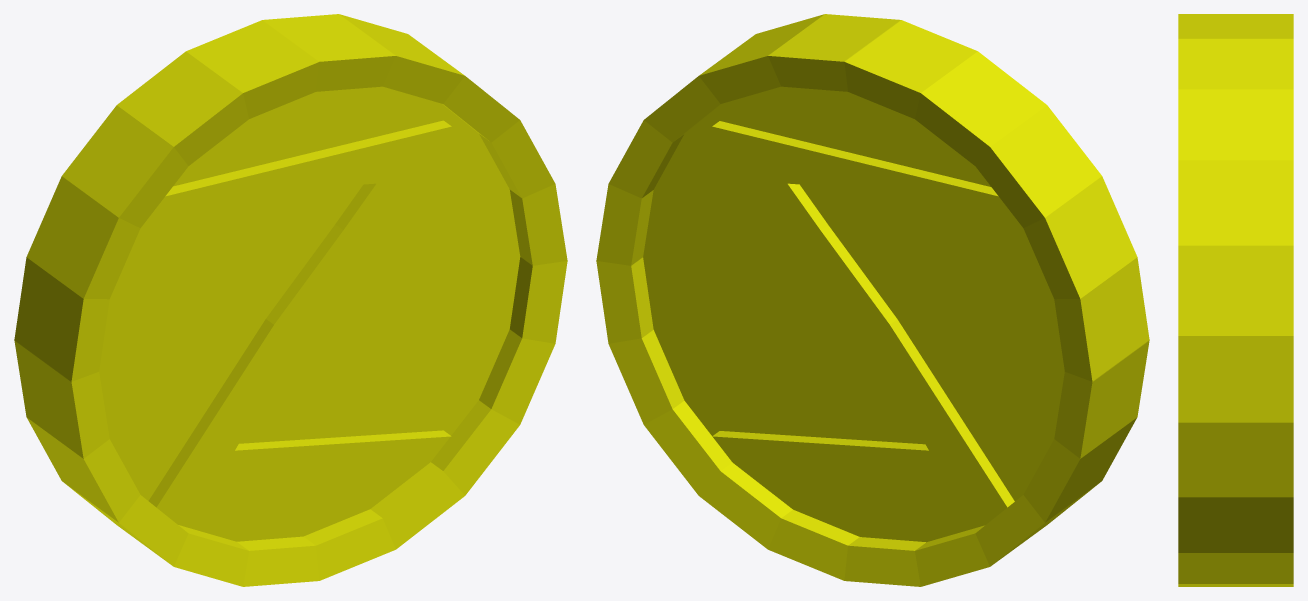
Rendered from Coin.fbx.
3 views of the same model, side by side, from view 1: azimuth 30°, elevation 25°; view 2: azimuth 150°, elevation 25°; view 3: azimuth 270°, elevation 25° (orthographic).
Parts seen in each view (by area): view 1: Cube; view 2: Cube; view 3: Cube.
Part boxes in pixels (x1=…): Cube: x1=14, y1=14, x2=567, y2=586; Cube: x1=596, y1=14, x2=1149, y2=586; Cube: x1=1178, y1=14, x2=1293, y2=586.
Size of the model in its own units: 200 by 200 by 39.91.
